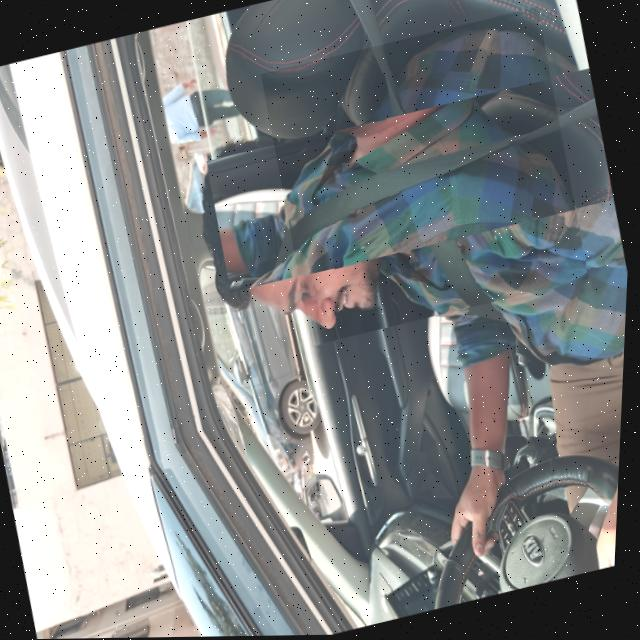seatbelt: (252, 7, 601, 346)
